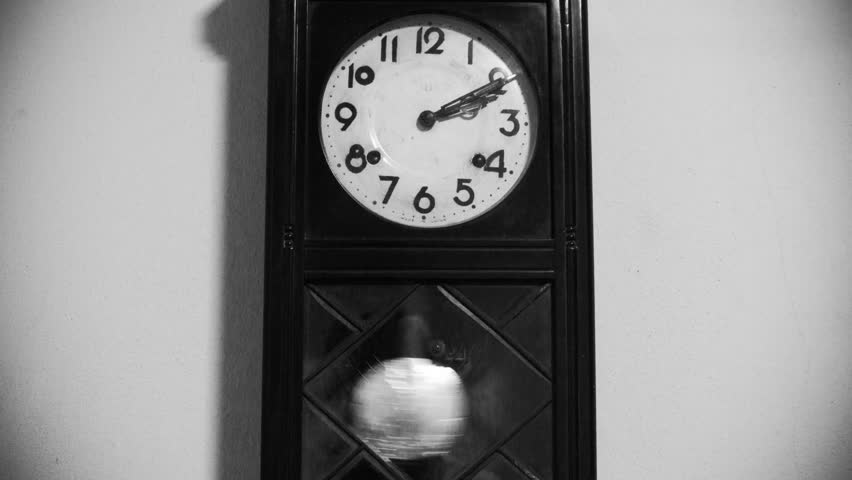clock: (322, 15, 539, 228)
